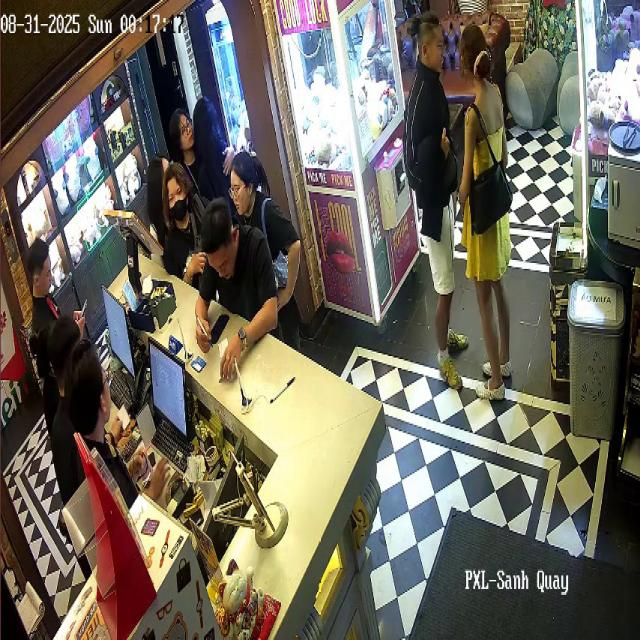khach: (458, 20, 516, 406), (407, 8, 463, 390), (200, 199, 272, 338), (228, 147, 296, 293), (65, 341, 127, 490), (161, 158, 202, 269), (192, 80, 234, 183), (25, 227, 67, 329), (50, 312, 78, 401), (27, 309, 57, 378), (166, 96, 195, 158)
